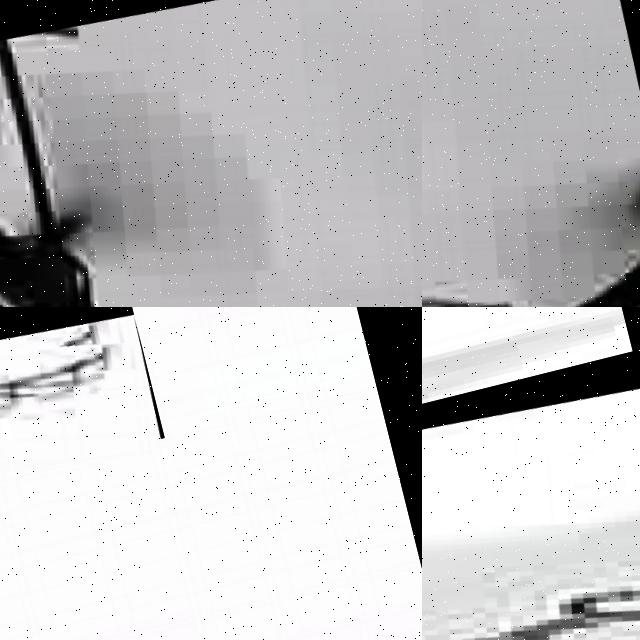drone: (0, 0, 422, 307), (422, 0, 640, 307), (422, 351, 640, 640), (0, 307, 164, 539)
